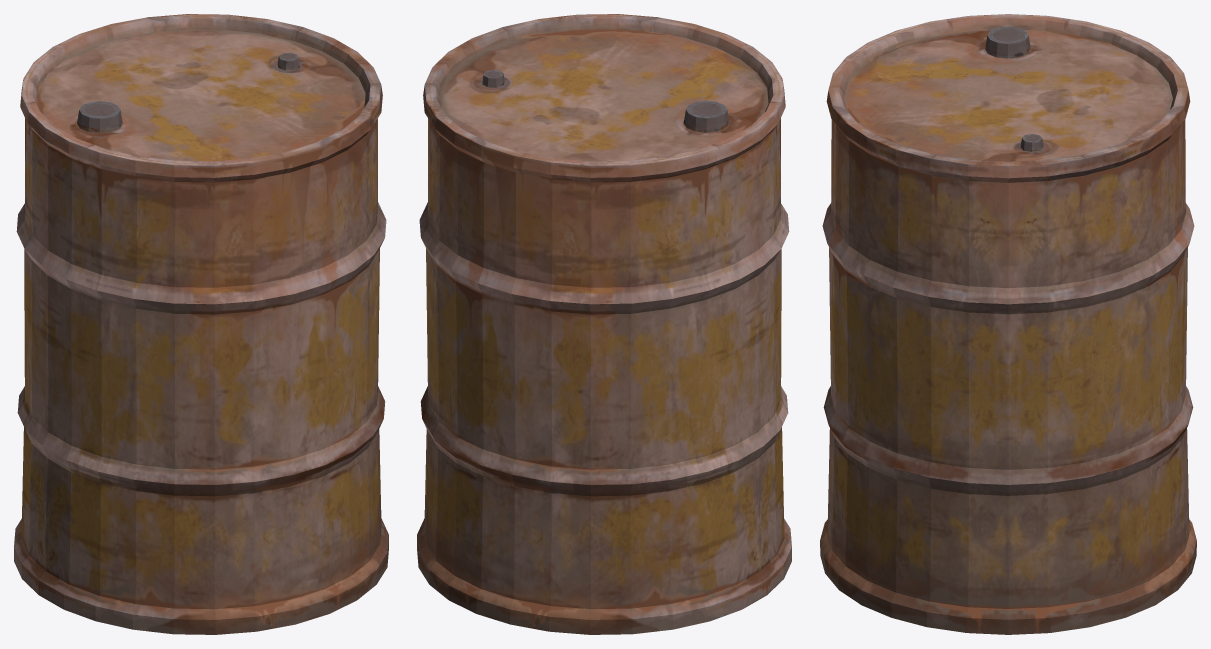
The model's file is P_OilBarrel_004_S1_M02.obj.
3 views of the same model, side by side, from view 1: azimuth 30°, elevation 25°; view 2: azimuth 150°, elevation 25°; view 3: azimuth 270°, elevation 25° (orthographic).
Bounding box in the file's own units: 0.723 × 1 × 0.7261.
1 material, 1 textured.
